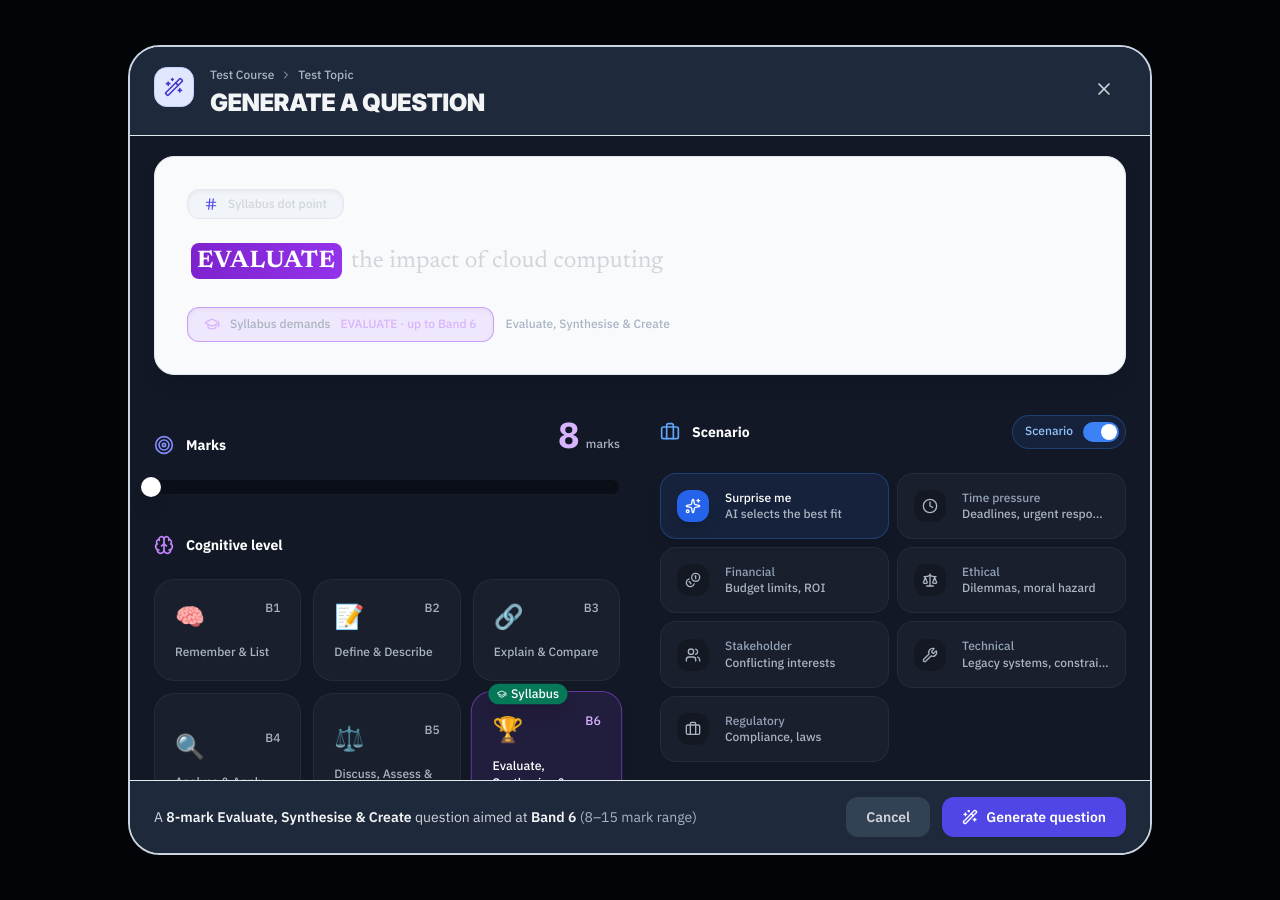
PromptGeneratorModal band/tier alignment › clamps the selected target band when the user switches to a lower tier
// Switch to Tier 2 ("Define & Describe", maxBand 4).
Click the text "Define & Describe". click: (387, 652)
box: left=334, top=644, right=440, bottom=660
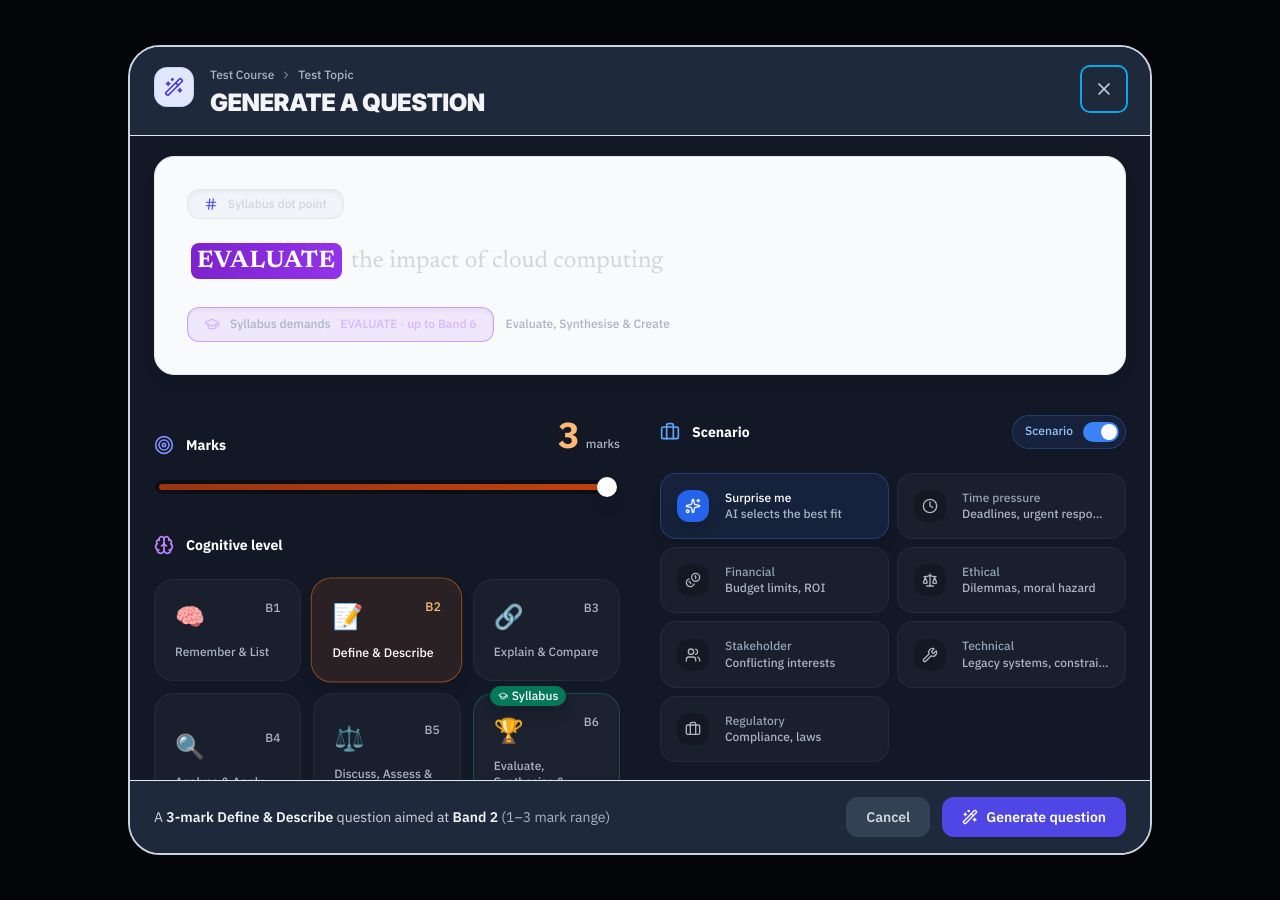
Expected: the text "aimed at" shows "Band 2", left=154, top=808, right=610, bottom=826
